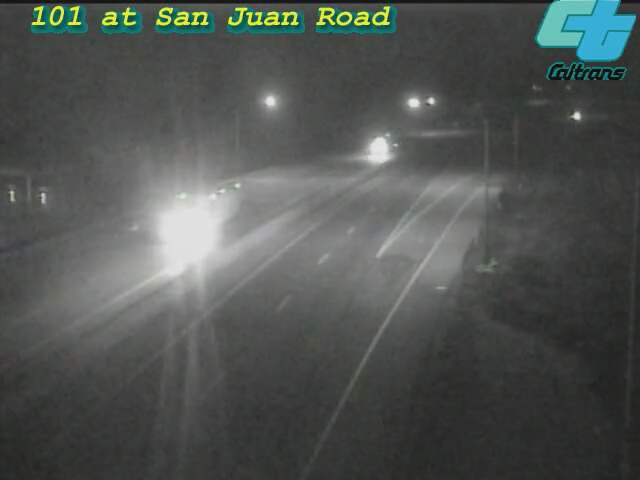vehicle: (160, 182, 240, 262), (357, 122, 407, 172), (552, 91, 602, 141)
